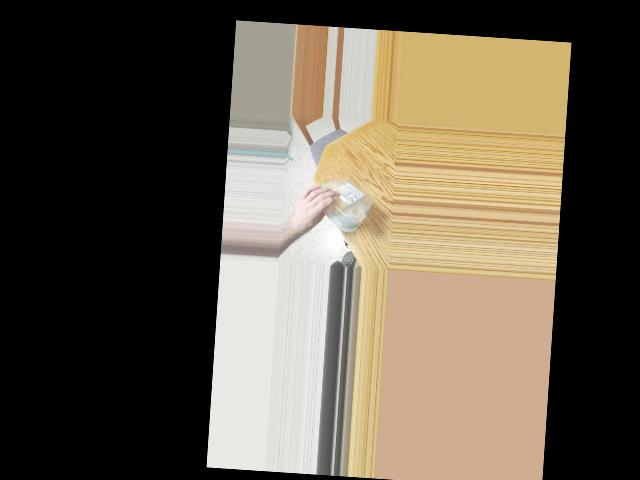cheese: (304, 175, 374, 230)
